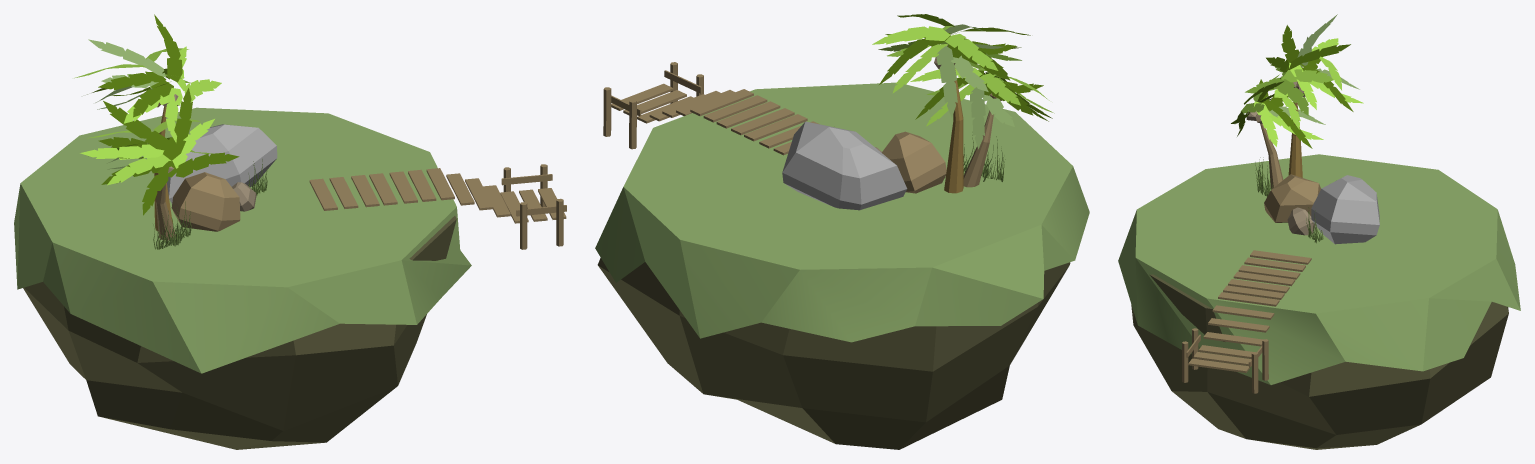
Rendered from island1_leaf.fbx.
The picture shows the model from 3 angles, left to right: view 1: azimuth 30°, elevation 25°; view 2: azimuth 150°, elevation 25°; view 3: azimuth 270°, elevation 25°; orthographic projection. The views are drawn at different scales.
Visible parts, largest first — view 1: island1_plane, island1_bigfloor, polySurface1 (×6), island1_stone6, island1_stone1, polySurface4 (×3), polySurface2 (×3), pCone2; view 2: island1_plane, island1_bigfloor, island1_stone6, polySurface4 (×4), island1_stone1, pCone2 (×2), polySurface1 (×3), pCube5, pCube6, pCube4, pCube3, pCube7 (+3 smaller); view 3: island1_plane, island1_bigfloor, island1_stone6, island1_stone1, pCone2 (×2), polySurface2 (×2), polySurface1 (×2), island1_stone2, polySurface4, pCube8, pCube6, pCube4 (+10 smaller).
Boxes of the visible parts, x1=… form: island1_plane: x1=14, y1=107, x2=471, y2=373; island1_bigfloor: x1=23, y1=216, x2=456, y2=449; polySurface1 (×6): x1=80, y1=14, x2=192, y2=160; island1_stone6: x1=167, y1=124, x2=277, y2=203; island1_stone1: x1=171, y1=172, x2=240, y2=231; polySurface4 (×3): x1=142, y1=88, x2=239, y2=215; polySurface2 (×3): x1=107, y1=81, x2=214, y2=185; pCone2: x1=155, y1=184, x2=175, y2=240; island1_plane: x1=595, y1=82, x2=1089, y2=342; island1_bigfloor: x1=597, y1=258, x2=1070, y2=449; island1_stone6: x1=782, y1=121, x2=907, y2=210; polySurface4 (×4): x1=872, y1=26, x2=1020, y2=105; island1_stone1: x1=881, y1=131, x2=946, y2=193; pCone2 (×2): x1=944, y1=68, x2=993, y2=193; polySurface1 (×3): x1=879, y1=33, x2=985, y2=149; pCube5: x1=716, y1=101, x2=780, y2=128; pCube6: x1=703, y1=95, x2=767, y2=122; pCube4: x1=731, y1=108, x2=794, y2=135; pCube3: x1=744, y1=114, x2=807, y2=141; pCube7: x1=690, y1=89, x2=753, y2=116; island1_plane: x1=1118, y1=154, x2=1520, y2=384; island1_bigfloor: x1=1131, y1=274, x2=1508, y2=449; island1_stone6: x1=1311, y1=175, x2=1379, y2=244; island1_stone1: x1=1264, y1=174, x2=1320, y2=222; pCone2 (×2): x1=1260, y1=102, x2=1302, y2=188; polySurface2 (×2): x1=1254, y1=69, x2=1333, y2=146; polySurface1 (×2): x1=1264, y1=44, x2=1350, y2=148; island1_stone2: x1=1287, y1=207, x2=1315, y2=235; polySurface4: x1=1277, y1=79, x2=1308, y2=115; pCube8: x1=1212, y1=305, x2=1274, y2=319; pCube6: x1=1223, y1=285, x2=1284, y2=299; pCube4: x1=1233, y1=271, x2=1295, y2=286.
Bounding box in the file's own units: 39.54 × 34.43 × 33.14.
